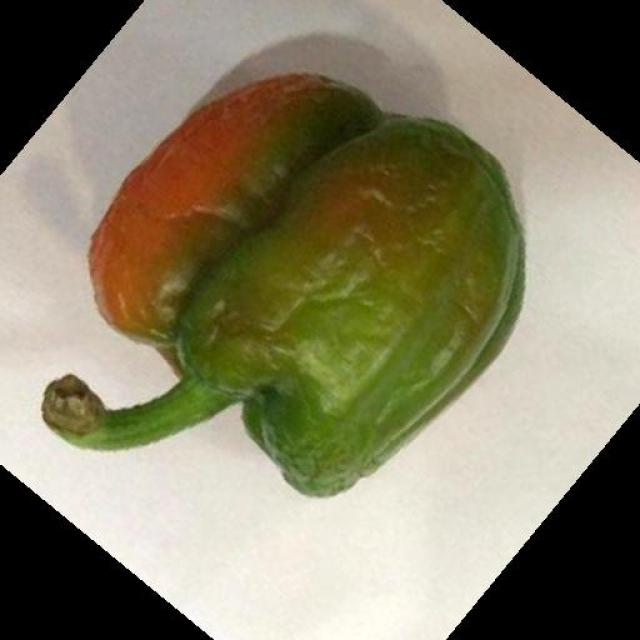Stale_Capsicum: (85, 81, 514, 475)
